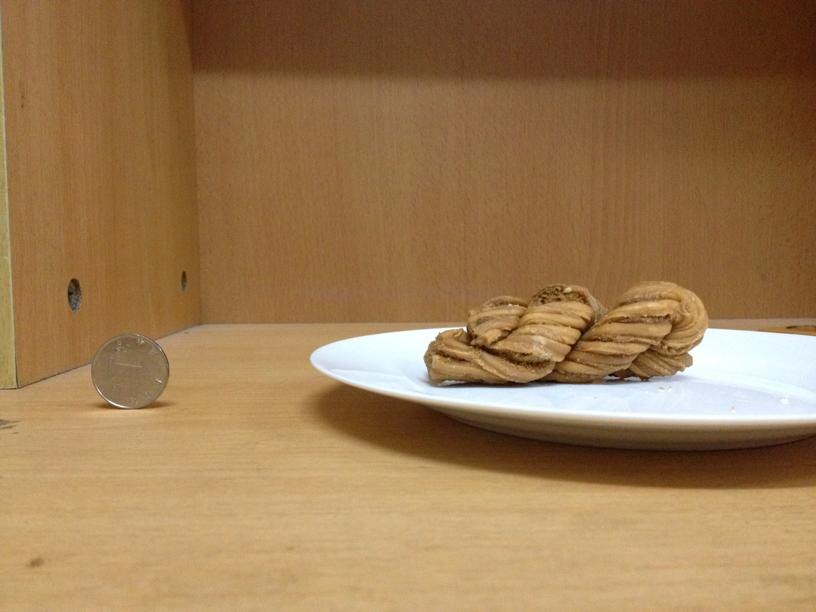coin: (91, 333, 171, 410)
fired_dough_twist: (425, 288, 706, 384)
